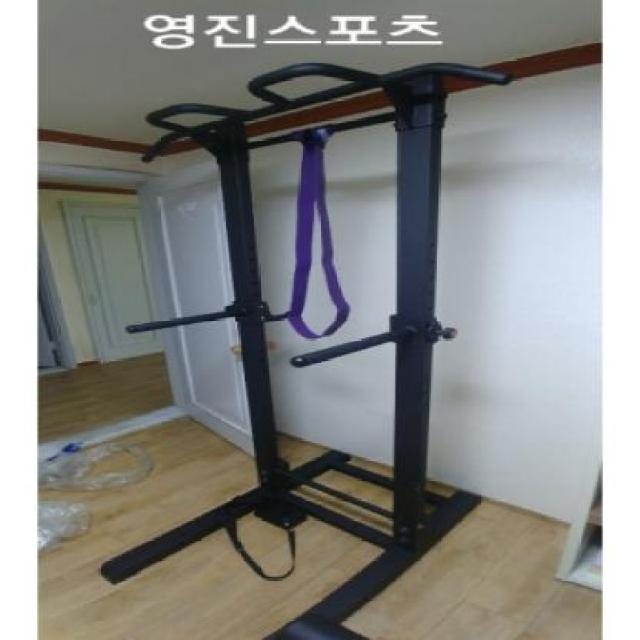chinning dipping: (102, 58, 506, 640)
